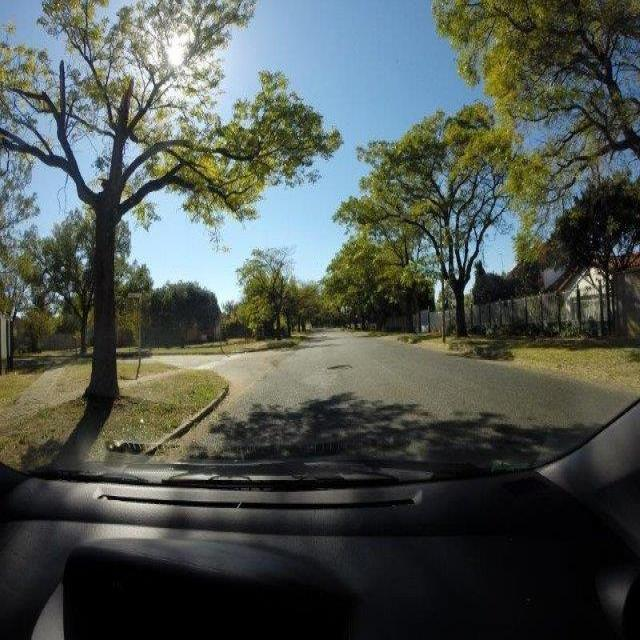lubang: (322, 356, 355, 372)
